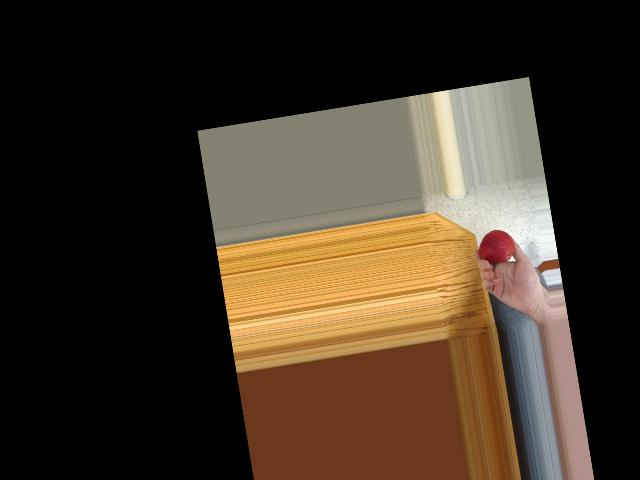apple: (477, 225, 516, 265)
